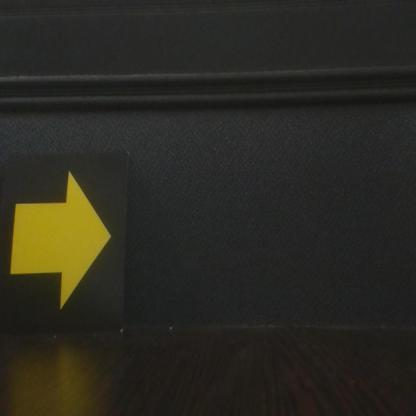right: (1, 155, 128, 333)
